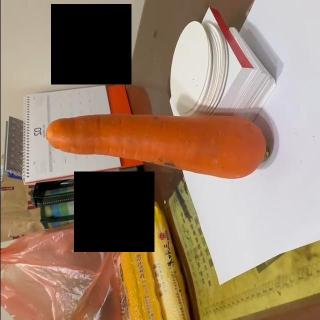carrot: (44, 113, 268, 181)
